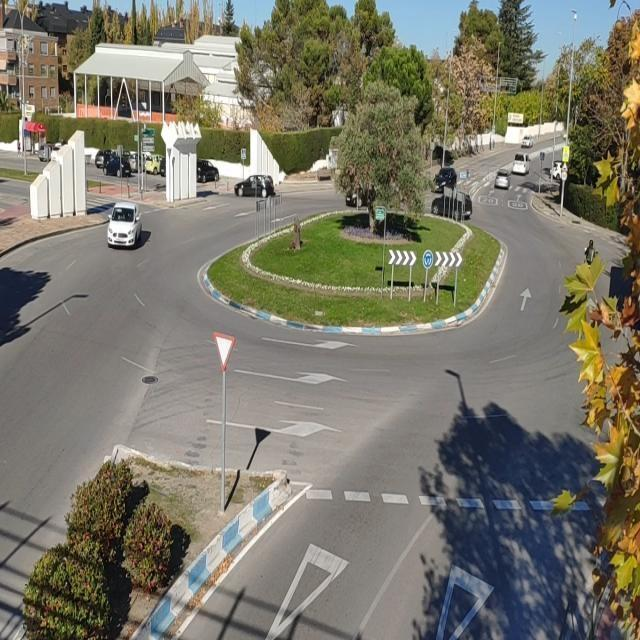Car: (106, 201, 140, 250), (234, 173, 276, 198), (432, 166, 457, 193), (493, 167, 512, 190)
Van: (512, 153, 532, 175)
